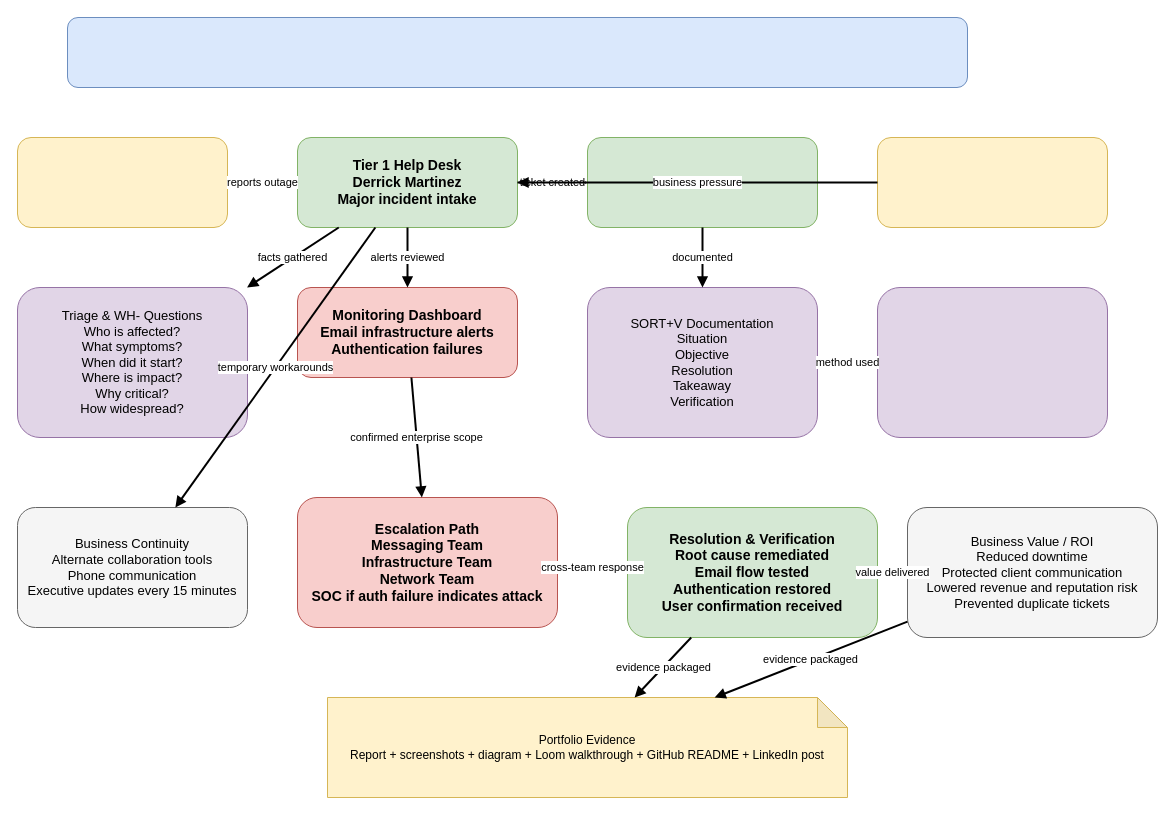
This 1175x815 diagram has some shape labels left out. Here are the shapes that lost their labels. From the top down, the centre of each, then its label:
At (x=517, y=52): "ServiceNow Major Incident Lab: Enterprise Email Outage & Authentication Alerts".
At (x=122, y=182): "Affected Users Sales, Finance, HR, Operations, Executive Leadership".
At (x=702, y=182): "ServiceNow Incident INC0010018 Priority: Critical".
At (x=992, y=182): "Executives & Customers Delayed client communication Reputation risk".
At (x=992, y=362): "The Wolf Method Assess Define objective Execute Verify Clean up/document".
